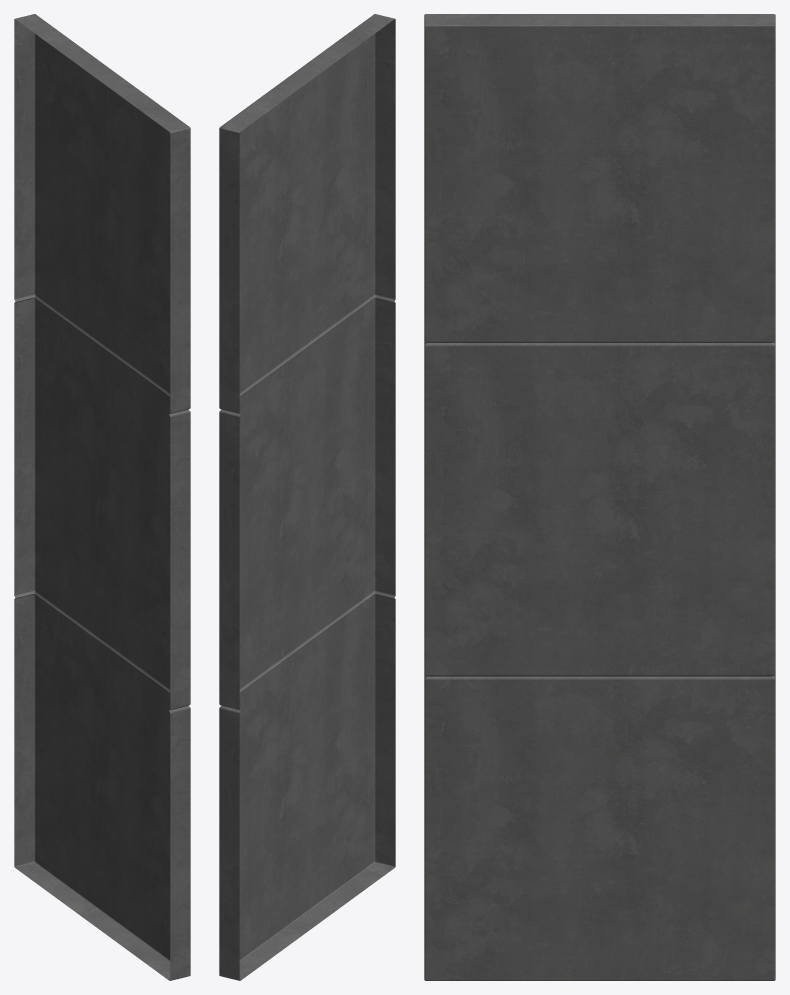
Rendered from cP_Pathway04_09.dae.
3 renders of one model, left to right at view 1: azimuth 30°, elevation 25°; view 2: azimuth 150°, elevation 25°; view 3: azimuth 270°, elevation 25°, orthographic. The views are drawn at different scales.
Parts seen in each view (by area): view 1: cP_Pathway04_09.001; view 2: cP_Pathway04_09.001; view 3: cP_Pathway04_09.001.
Part boxes in pixels (<box>): cP_Pathway04_09.001: <box>14,14,190,980</box>; cP_Pathway04_09.001: <box>219,14,395,980</box>; cP_Pathway04_09.001: <box>424,14,775,980</box>.
Size of the model in its own units: 0.3104 by 4 by 12.02.
